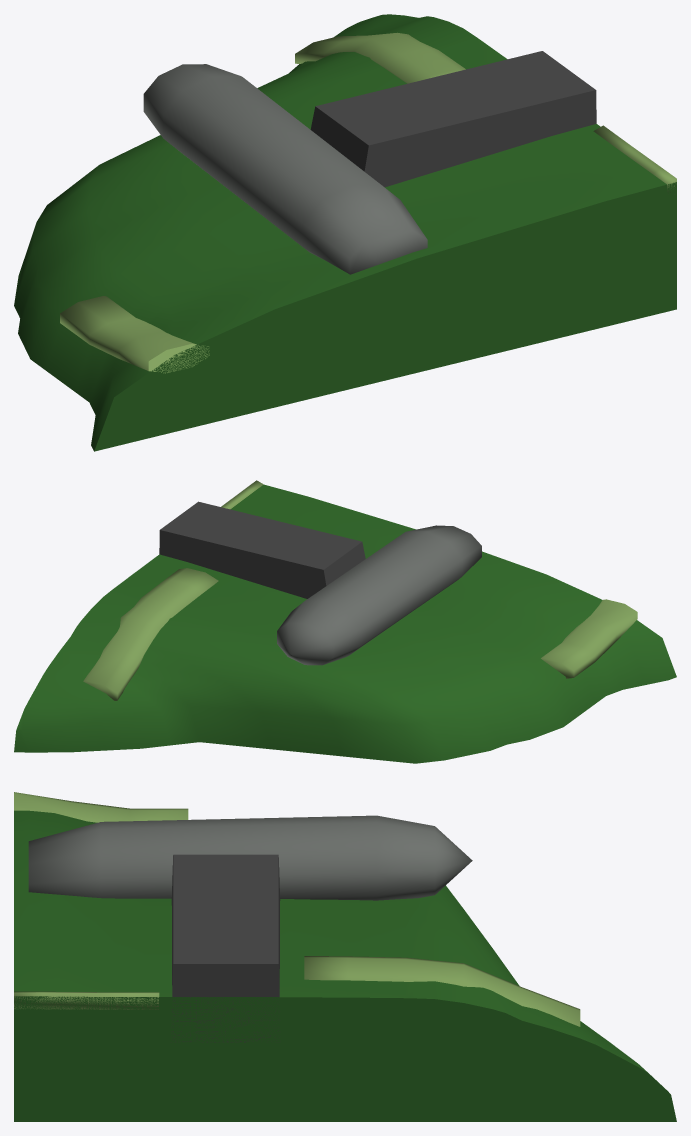
File: newshj-153.glb
3 views of the same model, one above another, from view 1: azimuth 30°, elevation 25°; view 2: azimuth 150°, elevation 25°; view 3: azimuth 270°, elevation 25° (orthographic). The views are drawn at different scales.
Parts seen in each view (by area): view 1: newshj-153; view 2: newshj-153; view 3: newshj-153.
Part boxes in pixels (<box>): newshj-153: <box>14,14,676,451</box>; newshj-153: <box>14,480,676,763</box>; newshj-153: <box>14,792,676,1121</box>.
Size of the model in its own units: 1.9 by 0.52 by 1.9.
